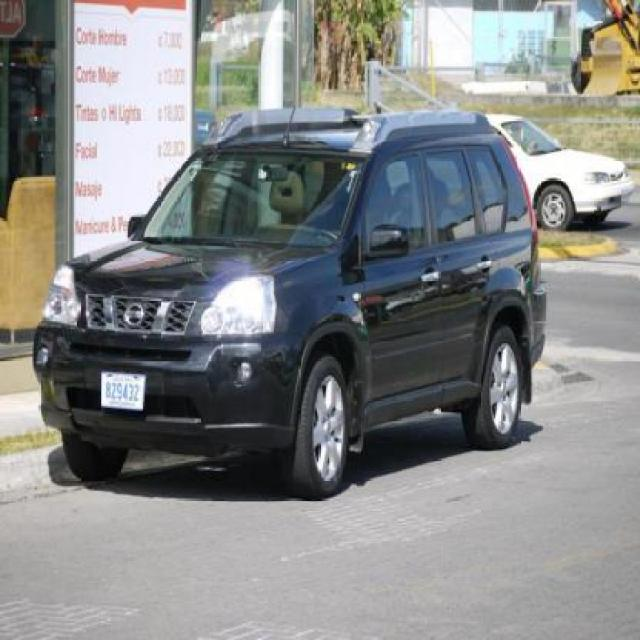License-Plates: (98, 368, 147, 411)
